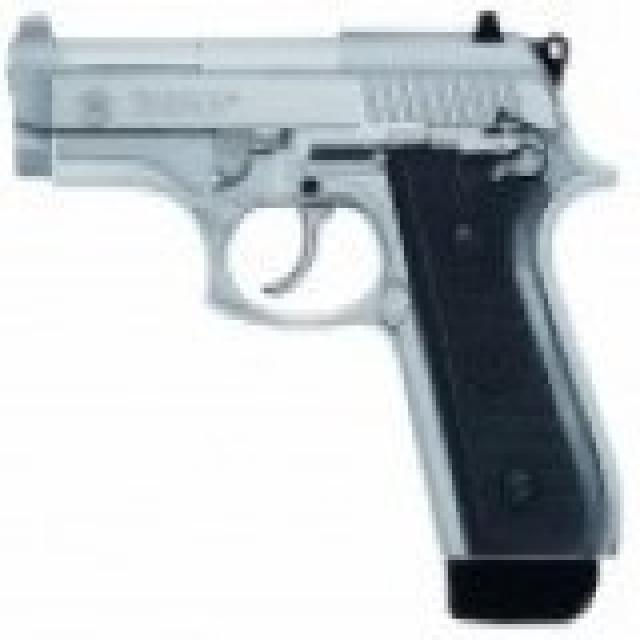gun: (8, 5, 620, 623)
